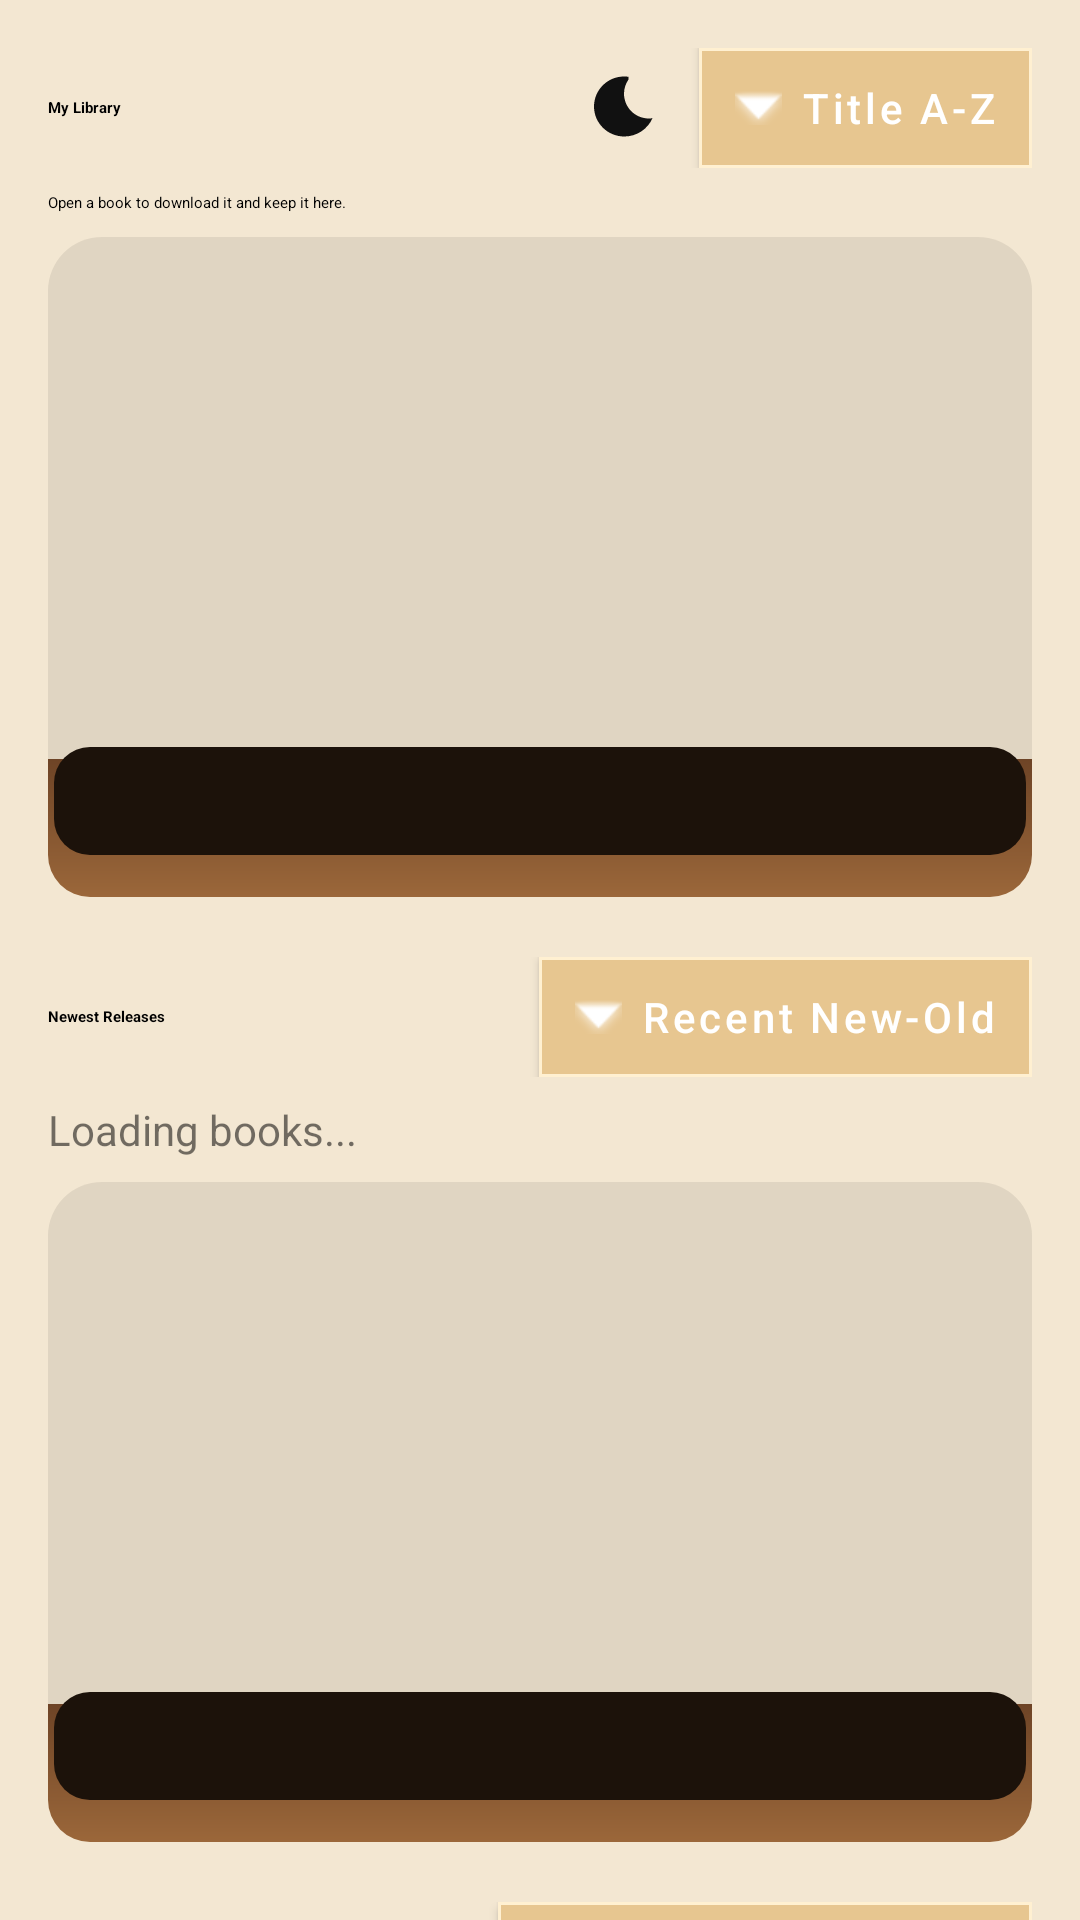

Icons on this 1080 x 1920 Android screen, each with the point to tap as (x,y):
Toggle theme: (623,106)
